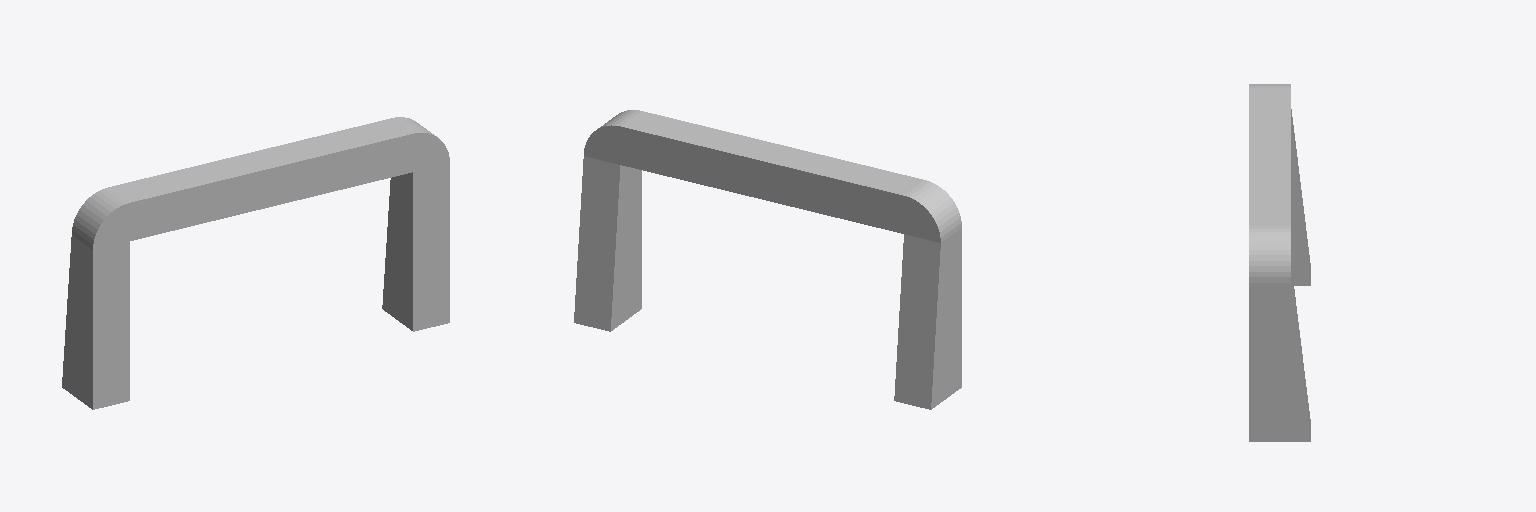
File: overhead.obj
3 renders of one model, left to right at view 1: azimuth 30°, elevation 25°; view 2: azimuth 150°, elevation 25°; view 3: azimuth 270°, elevation 25°, orthographic.
Visible parts, largest first — view 1: overhead; view 2: overhead; view 3: overhead.
Part boxes in pixels (left/top/right/bottom): overhead: left=62, top=117, right=449, bottom=409; overhead: left=574, top=110, right=961, bottom=409; overhead: left=1249, top=84, right=1310, bottom=441.
Bounding box in the file's own units: 12.6 × 6.68 × 1.9.